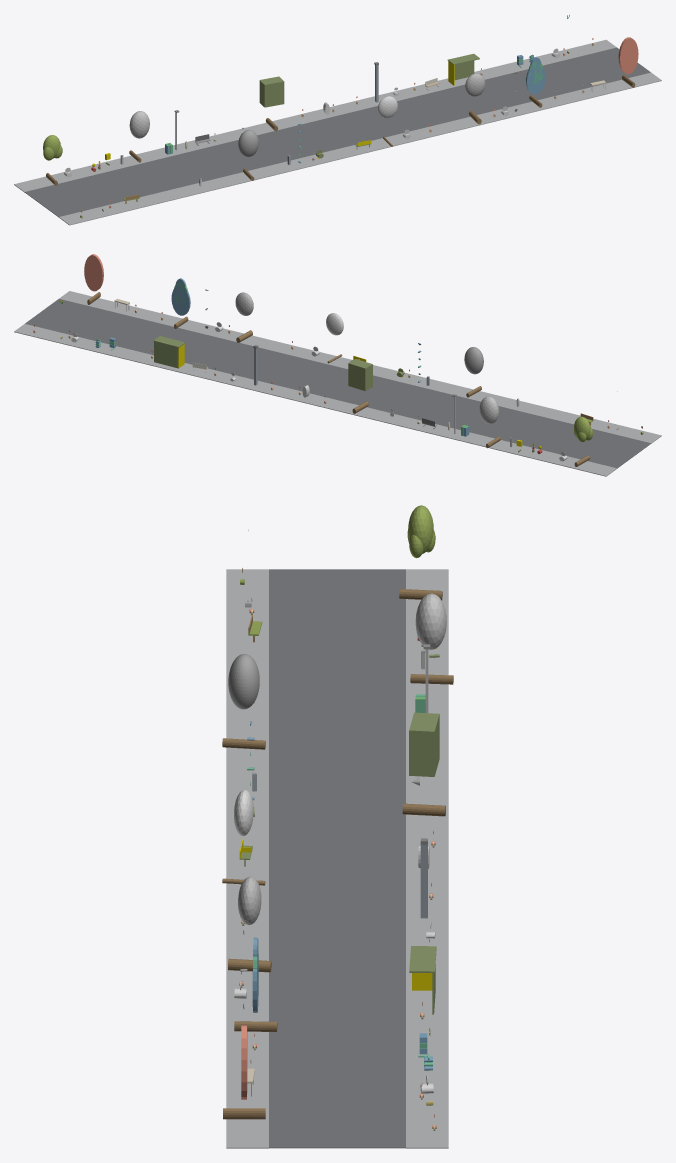
3 renders of one model, top to bottom at view 1: azimuth 30°, elevation 25°; view 2: azimuth 150°, elevation 25°; view 3: azimuth 270°, elevation 25°, orthographic. The views are drawn at different scales.
Parts seen in each view (by area): view 1: road_slab, sidewalk_left, sidewalk_right, inst_0021, inst_0025, inst_0026, inst_0024, inst_0019, inst_0020, inst_0018, inst_0023, inst_0022; view 2: road_slab, sidewalk_right, sidewalk_left, inst_0026, inst_0021, inst_0025, inst_0024, inst_0019, inst_0020, inst_0018, inst_0023, inst_0022; view 3: road_slab, sidewalk_left, sidewalk_right, inst_0021, inst_0020, inst_0019, inst_0018, inst_0023, inst_0026, inst_0025, inst_0024, inst_0022.
Boxes of the visible parts, bbox=[...] form: road_slab: bbox=[24, 47, 650, 217]; sidewalk_left: bbox=[59, 72, 661, 225]; sidewalk_right: bbox=[14, 39, 616, 192]; inst_0021: bbox=[259, 76, 284, 131]; inst_0025: bbox=[618, 37, 638, 87]; inst_0026: bbox=[447, 53, 479, 85]; inst_0024: bbox=[526, 57, 545, 107]; inst_0019: bbox=[129, 111, 149, 162]; inst_0020: bbox=[238, 130, 258, 180]; inst_0018: bbox=[43, 135, 62, 185]; inst_0023: bbox=[465, 73, 485, 124]; inst_0022: bbox=[378, 96, 397, 146]; road_slab: bbox=[25, 299, 651, 468]; sidewalk_right: bbox=[14, 324, 616, 476]; sidewalk_left: bbox=[59, 291, 661, 443]; inst_0026: bbox=[153, 336, 185, 368]; inst_0021: bbox=[348, 359, 372, 413]; inst_0025: bbox=[84, 254, 103, 304]; inst_0024: bbox=[171, 278, 190, 328]; inst_0019: bbox=[479, 396, 500, 448]; inst_0020: bbox=[464, 347, 483, 397]; inst_0018: bbox=[574, 416, 592, 466]; inst_0023: bbox=[235, 292, 253, 342]; inst_0022: bbox=[326, 313, 343, 363]; road_slab: bbox=[269, 569, 405, 1148]; sidewalk_left: bbox=[226, 569, 268, 1148]; sidewalk_right: bbox=[406, 569, 448, 1148]; inst_0021: bbox=[402, 712, 445, 816]; inst_0020: bbox=[222, 654, 265, 749]; inst_0019: bbox=[410, 593, 453, 684]; inst_0018: bbox=[399, 505, 442, 600]; inst_0023: bbox=[228, 876, 271, 972]; inst_0026: bbox=[409, 946, 436, 1014]; inst_0025: bbox=[223, 1025, 265, 1119]; inst_0024: bbox=[234, 937, 277, 1031]; inst_0022: bbox=[222, 789, 265, 885].
Bounding box in the file's own units: 80 × 6.08 × 13.52.
